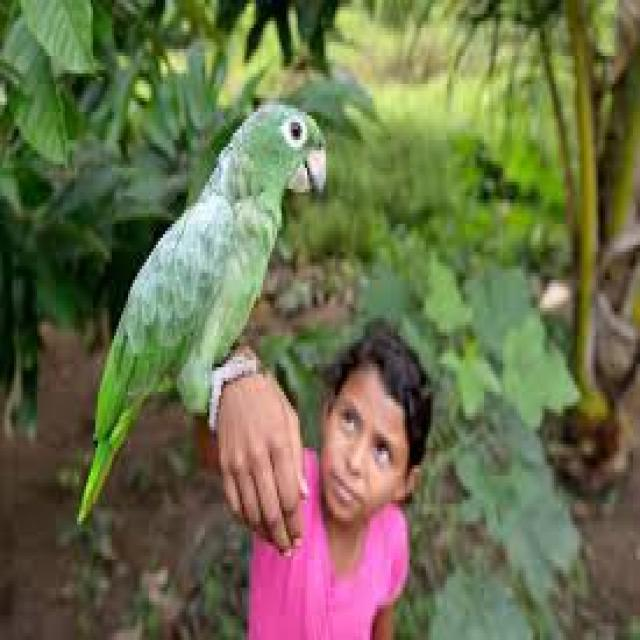Parrot: (74, 97, 330, 497)
